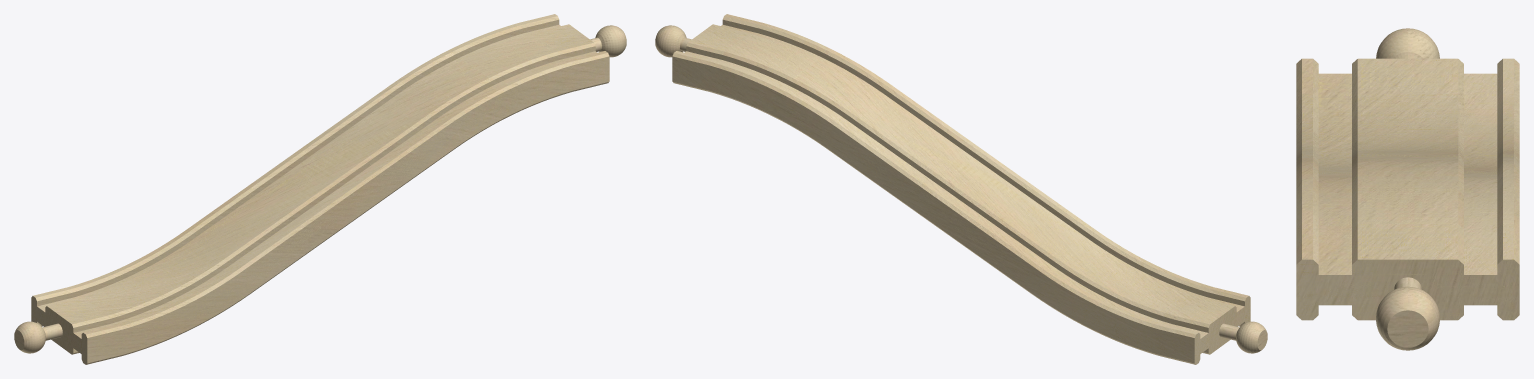
The picture shows the model from 3 angles, left to right: view 1: azimuth 30°, elevation 25°; view 2: azimuth 150°, elevation 25°; view 3: azimuth 270°, elevation 25°; orthographic projection. The views are drawn at different scales.
Visible parts, largest first — view 1: group_0, _3d_peg (×2); view 2: group_0, _3d_peg (×2); view 3: group_0, _3d_peg (×2).
Part boxes in pixels (x1,y1,x2,y2): group_0: [31, 14, 609, 364]; _3d_peg (×2): [14, 25, 626, 353]; group_0: [672, 14, 1250, 364]; _3d_peg (×2): [655, 25, 1267, 353]; group_0: [1296, 58, 1519, 320]; _3d_peg (×2): [1376, 28, 1439, 350].
Size of the model in its own units: 9.81 by 1.57 by 2.87.
